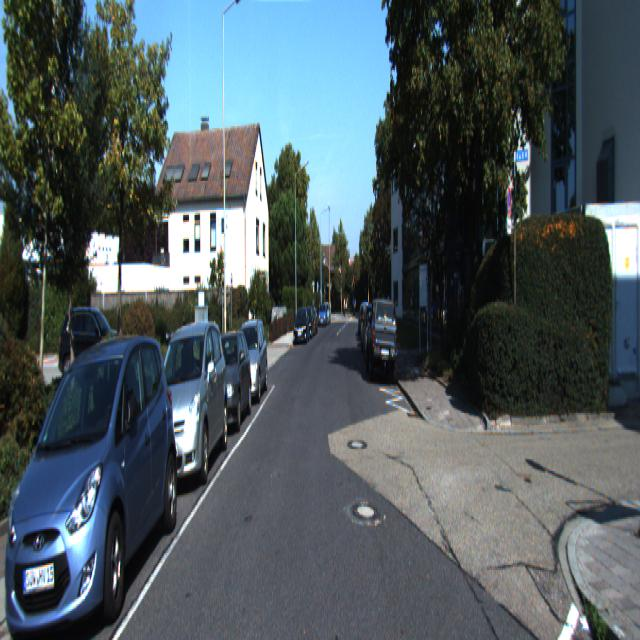Car: (0, 325, 183, 639), (141, 314, 229, 493), (200, 325, 252, 434), (229, 315, 269, 404), (366, 295, 398, 383), (293, 305, 309, 342), (318, 303, 328, 327)
